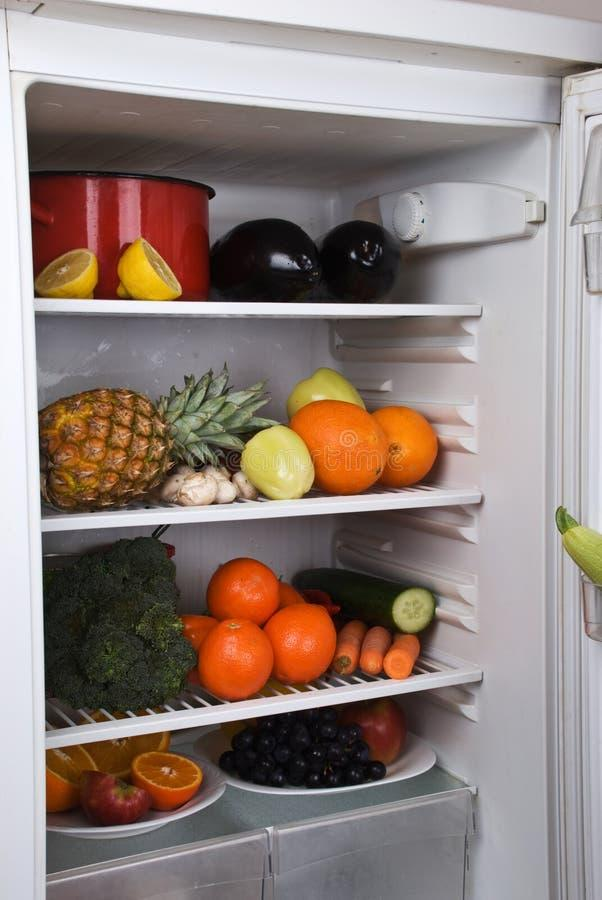brocollo: (37, 532, 196, 723)
carrot: (325, 614, 503, 702)
orange: (205, 572, 346, 741), (297, 384, 467, 489), (37, 730, 248, 811)
